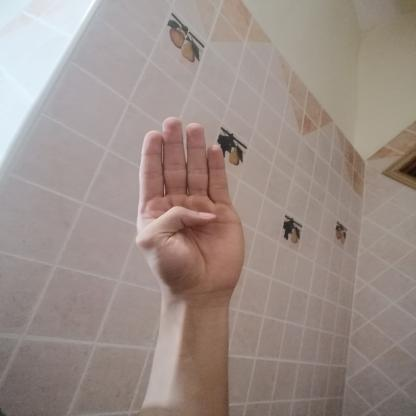KAAF: (117, 105, 266, 307)
